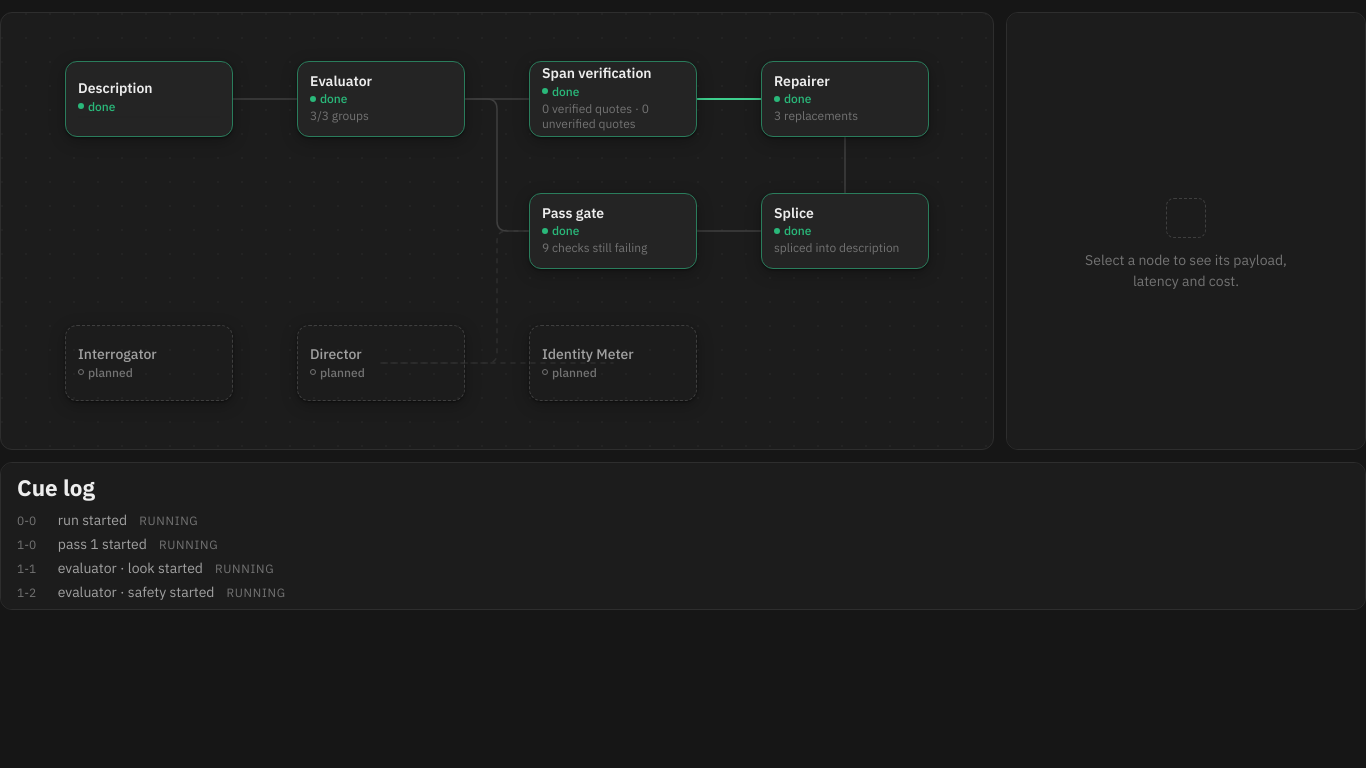
Test: ArchitectureScreen › shows 'not measured' for a node with no cost yet, never a fabricated $0.00
The width and height of the screenshot is (1366, 768).
Click the button with test id "node-intake" at (149, 99), box [65,61,233,137]
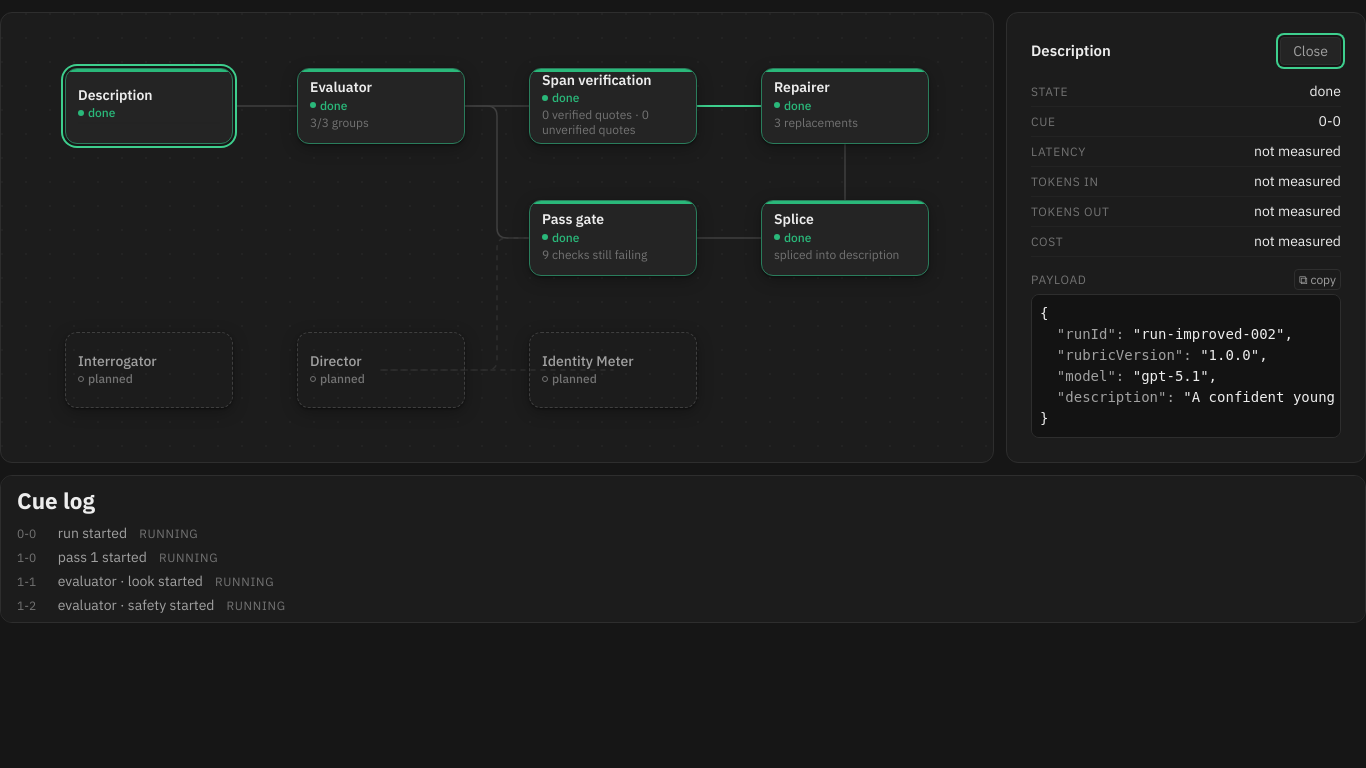
Now the text "not measured" in the row of "latency" is shown, box [1254,142,1341,160]
